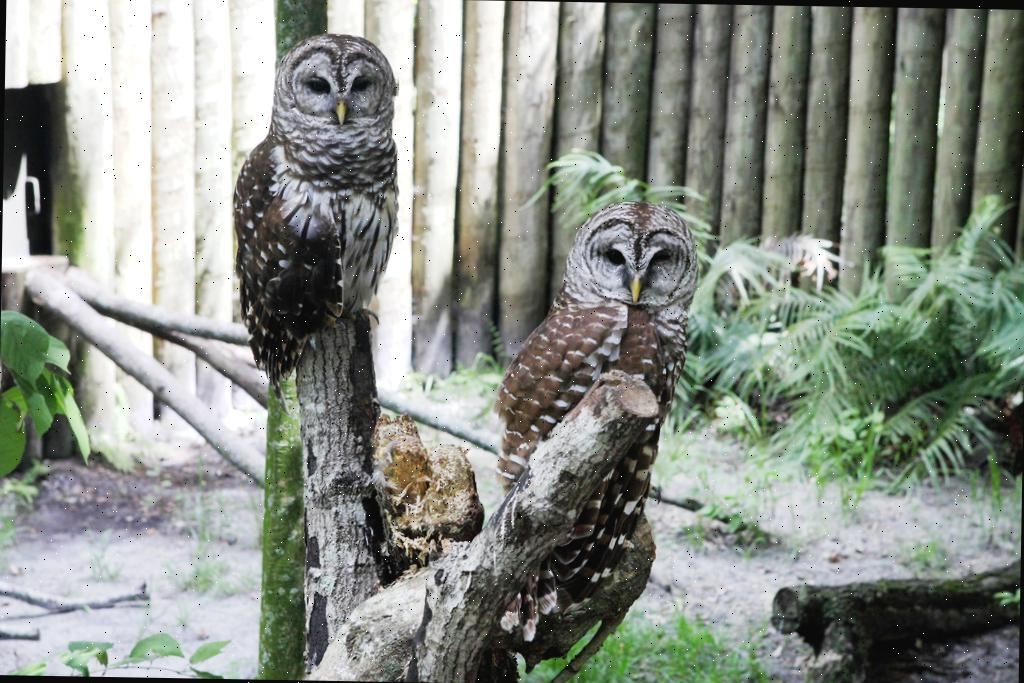Owl: (478, 194, 706, 648), (226, 33, 404, 384)
